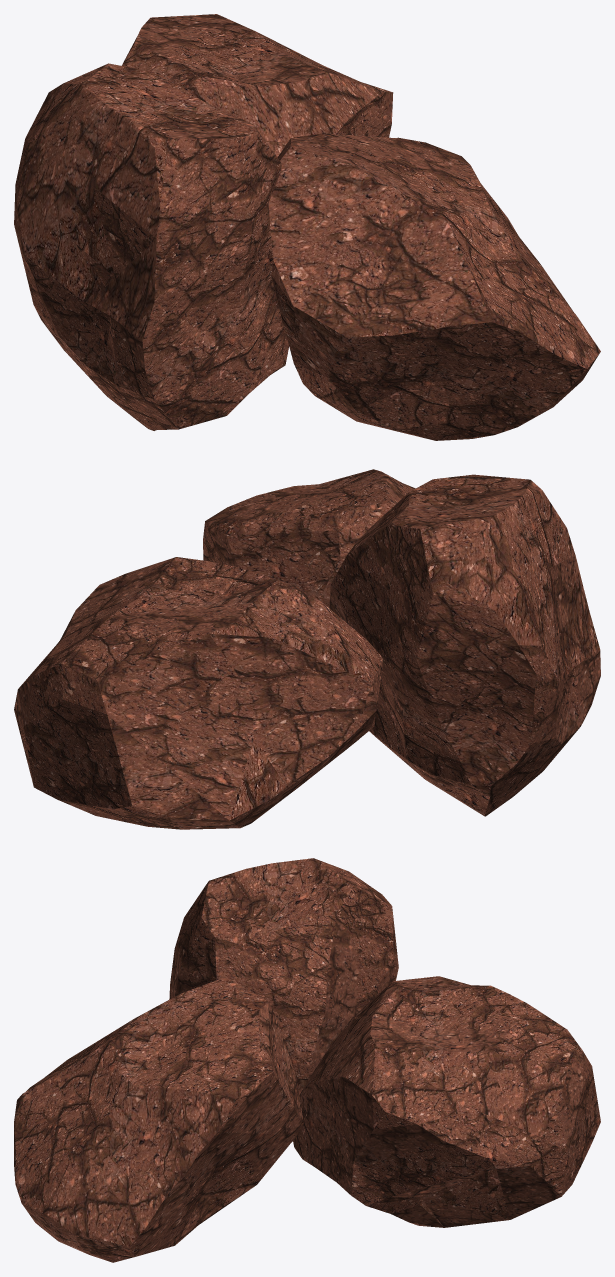
File: Rocks.fbx
3 renders of one model, top to bottom at view 1: azimuth 30°, elevation 25°; view 2: azimuth 150°, elevation 25°; view 3: azimuth 270°, elevation 25°, orthographic. The views are drawn at different scales.
Visible parts, largest first — view 1: Rock002, Rock, Rock001; view 2: Rock001, Rock002, Rock; view 3: Rock001, Rock, Rock002.
Boxes of the visible parts, x1,y1,x2,y2 form: Rock002: (14,63,289,430); Rock: (268,133,600,440); Rock001: (121,14,393,157); Rock001: (14,557,383,829); Rock002: (329,474,600,816); Rock: (203,469,415,607); Rock001: (293,976,600,1227); Rock: (14,977,303,1262); Rock002: (169,858,398,1141).
Bounding box in the file's own units: 87.28 × 61.31 × 115.
1 material, 1 textured.
